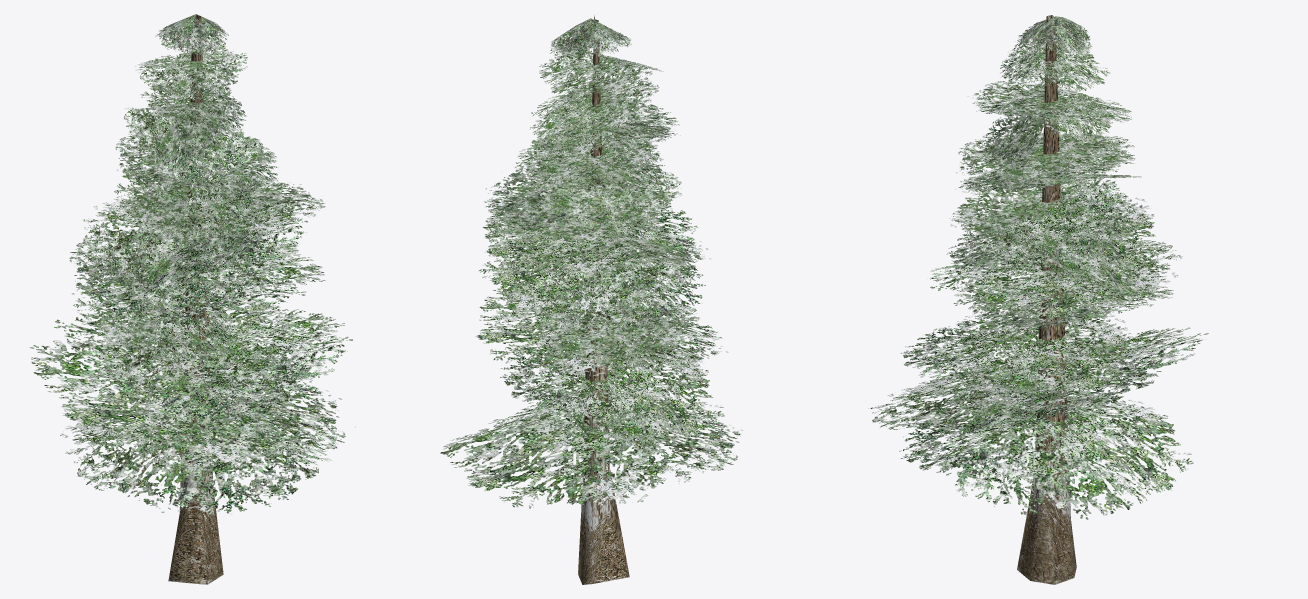
File: pine_b.glb
3 renders of one model, left to right at view 1: azimuth 30°, elevation 25°; view 2: azimuth 150°, elevation 25°; view 3: azimuth 270°, elevation 25°, orthographic.
Visible parts, largest first — view 1: pine_b; view 2: pine_b; view 3: pine_b.
Part boxes in pixels (x1,y1,x2,y2): pine_b: [29, 14, 355, 584]; pine_b: [440, 15, 742, 584]; pine_b: [868, 15, 1208, 584].
Size of the model in its own units: 12.55 by 20.82 by 16.6.
Materials: 1 (1 with a texture image).
